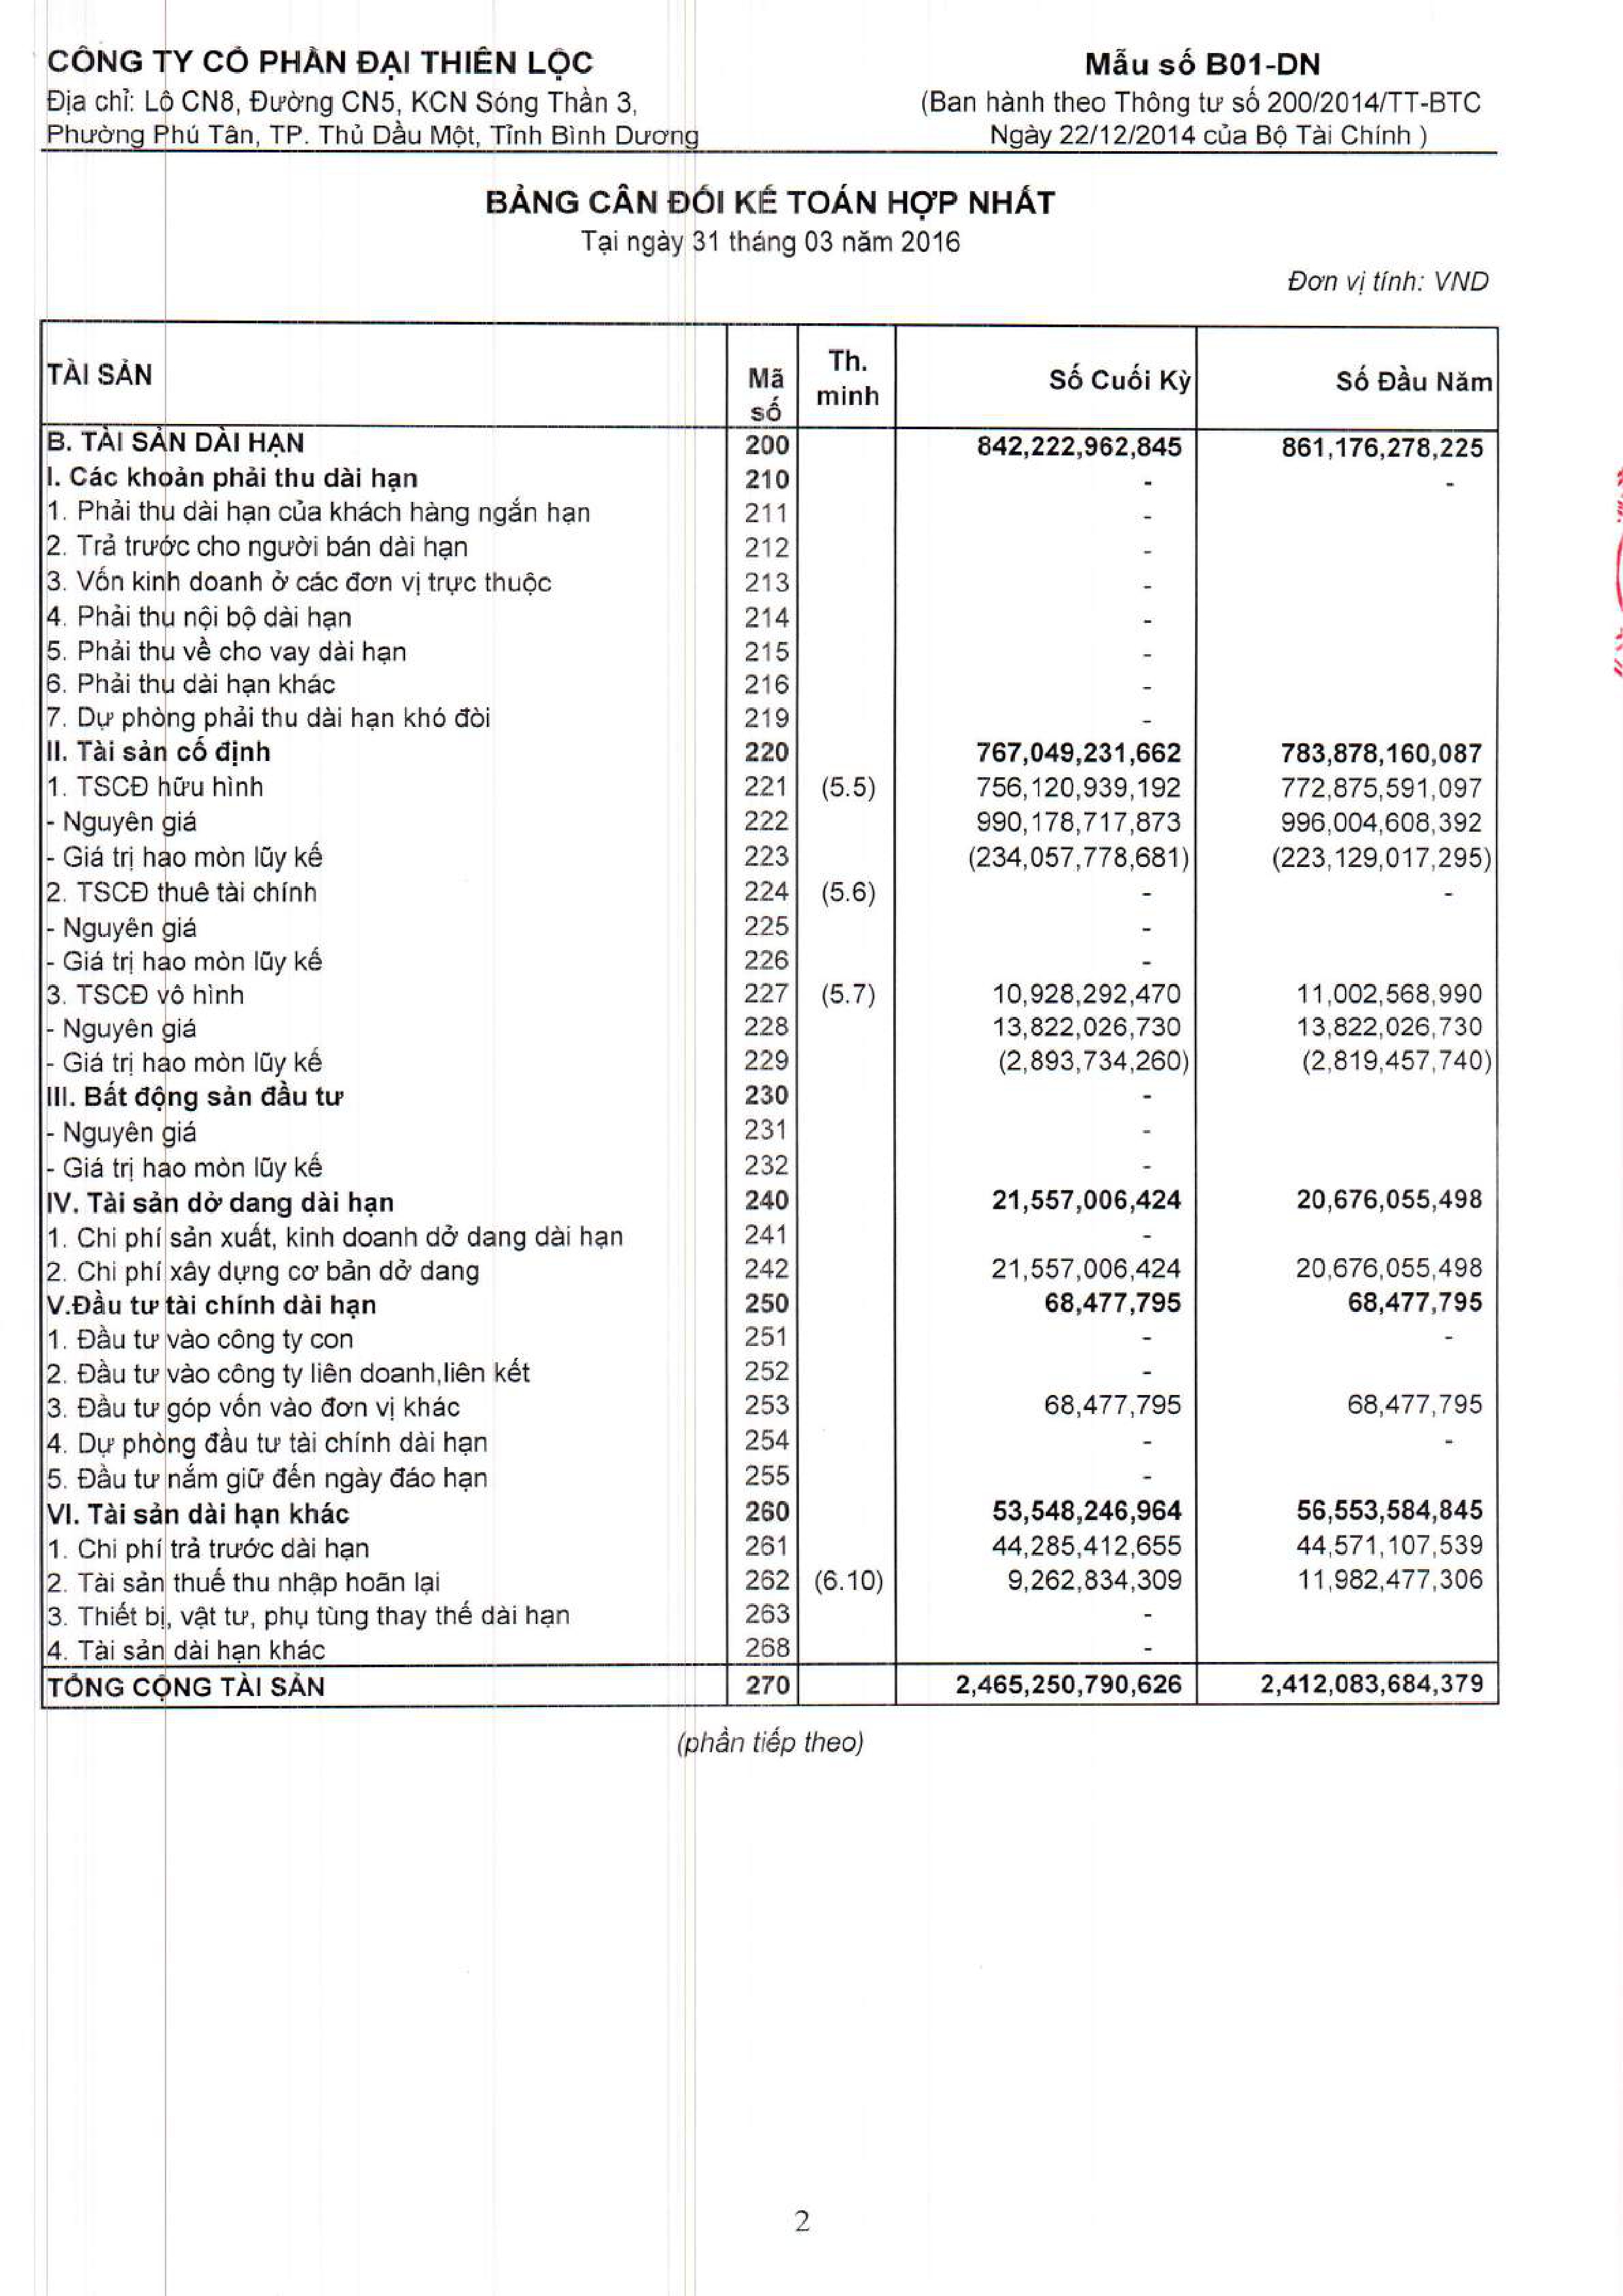table: (23, 305, 1516, 1720)
table column: (23, 305, 662, 1720), (1254, 305, 1516, 1720), (934, 305, 1193, 1720), (817, 305, 884, 1720), (725, 305, 780, 1720)
table column header: (23, 305, 1516, 386)
table row: (23, 319, 1516, 376), (23, 421, 1516, 455), (23, 493, 1516, 527), (23, 565, 1516, 599), (23, 600, 1516, 634), (23, 672, 1516, 706), (23, 707, 1516, 741), (23, 743, 1516, 776), (23, 781, 1516, 814), (23, 851, 1516, 885), (23, 888, 1516, 922), (23, 923, 1516, 957), (23, 1030, 1516, 1064), (23, 1067, 1516, 1101), (23, 1139, 1516, 1173), (23, 1246, 1516, 1280), (23, 1318, 1516, 1352), (23, 1355, 1516, 1388), (23, 1390, 1516, 1424), (23, 1462, 1516, 1496), (23, 1497, 1516, 1531), (23, 1568, 1516, 1601), (23, 1604, 1516, 1638), (23, 1639, 1516, 1673), (23, 1680, 1516, 1713), (23, 386, 1516, 418), (23, 458, 1516, 490), (23, 530, 1516, 562), (23, 637, 1516, 669), (23, 816, 1516, 848), (23, 958, 1516, 990), (23, 997, 1516, 1029), (23, 1104, 1516, 1136), (23, 1176, 1516, 1208), (23, 1209, 1516, 1241), (23, 1281, 1516, 1313), (23, 1427, 1516, 1459), (23, 1534, 1516, 1566)
